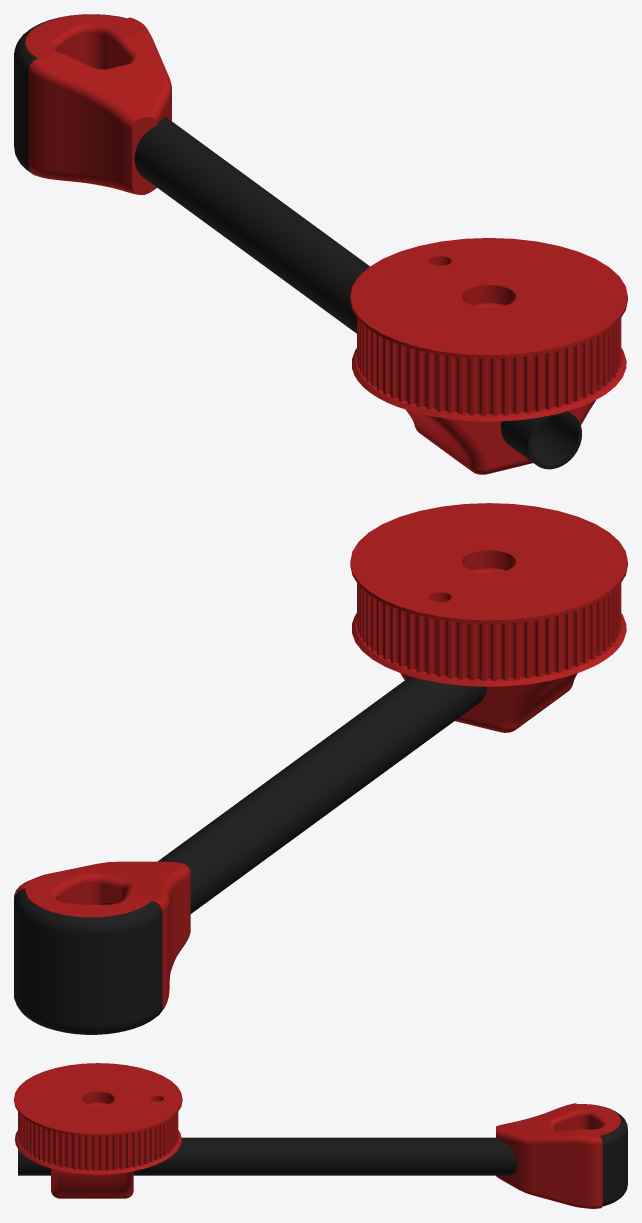
Rendered from LF_calf.dae.
The picture shows the model from 3 angles, top to bottom: view 1: azimuth 30°, elevation 25°; view 2: azimuth 150°, elevation 25°; view 3: azimuth 270°, elevation 25°; orthographic projection. The views are drawn at different scales.
Parts seen in each view (by area): view 1: KneeFBXASC032Flexion-FBXASC032HTDFBXASC0323MFBXASC03272T, claw, CFFBXASC032Calf, RubberFBXASC032Sole; view 2: KneeFBXASC032Flexion-FBXASC032HTDFBXASC0323MFBXASC03272T, CFFBXASC032Calf, RubberFBXASC032Sole, claw; view 3: KneeFBXASC032Flexion-FBXASC032HTDFBXASC0323MFBXASC03272T, CFFBXASC032Calf, claw, RubberFBXASC032Sole.
Boxes of the visible parts, left/top/right/bottom form: KneeFBXASC032Flexion-FBXASC032HTDFBXASC0323MFBXASC03272T: left=350, top=238, right=627, bottom=474; claw: left=25, top=14, right=171, bottom=194; CFFBXASC032Calf: left=134, top=117, right=581, bottom=469; RubberFBXASC032Sole: left=14, top=14, right=127, bottom=174; KneeFBXASC032Flexion-FBXASC032HTDFBXASC0323MFBXASC03272T: left=350, top=503, right=627, bottom=732; CFFBXASC032Calf: left=101, top=676, right=486, bottom=913; RubberFBXASC032Sole: left=14, top=888, right=162, bottom=1034; claw: left=14, top=861, right=190, bottom=1034; KneeFBXASC032Flexion-FBXASC032HTDFBXASC0323MFBXASC03272T: left=14, top=1063, right=182, bottom=1198; CFFBXASC032Calf: left=18, top=1137, right=517, bottom=1175; claw: left=496, top=1103, right=620, bottom=1208; RubberFBXASC032Sole: left=585, top=1104, right=627, bottom=1206.
Size of the model in its own units: 0.0714 by 0.0438 by 0.2602.
